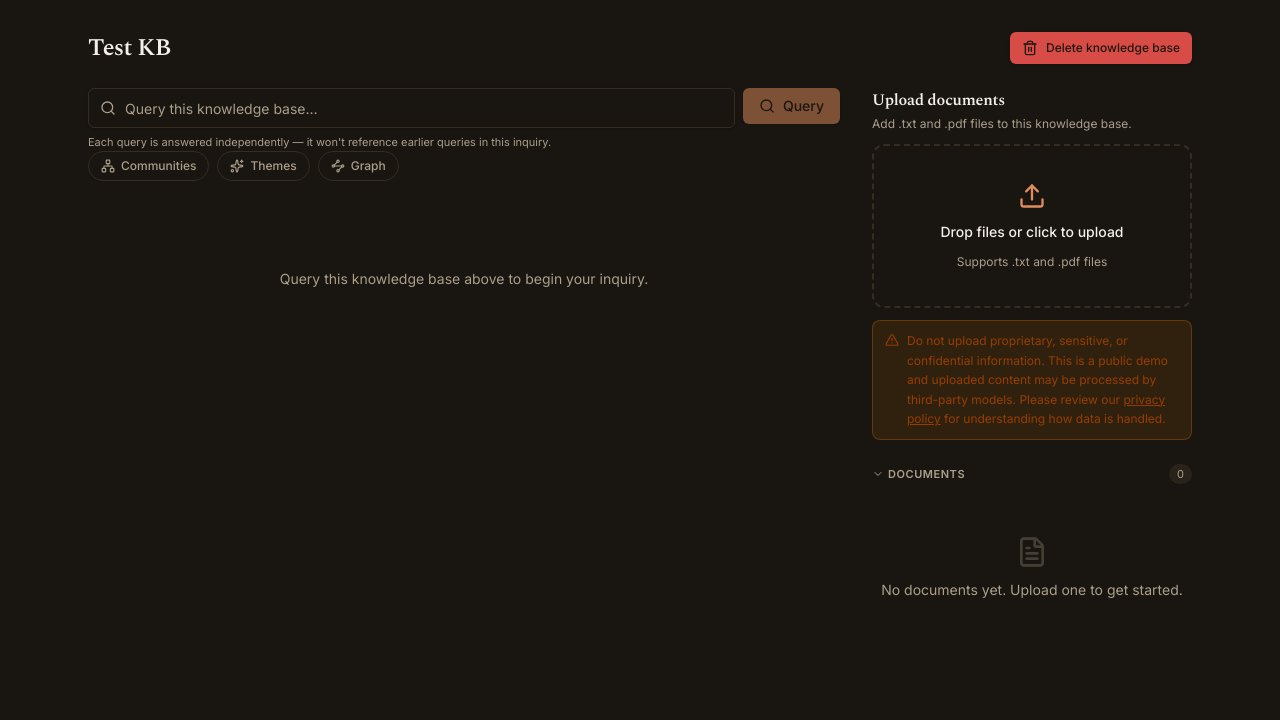
Test case: KBDetailPage › explore section › pills › opens the matching panel on click and reflects that in aria-pressed
Click the button "Communities" at {"x": 149, "y": 166}, box x1=88 y1=150 x2=210 y2=180
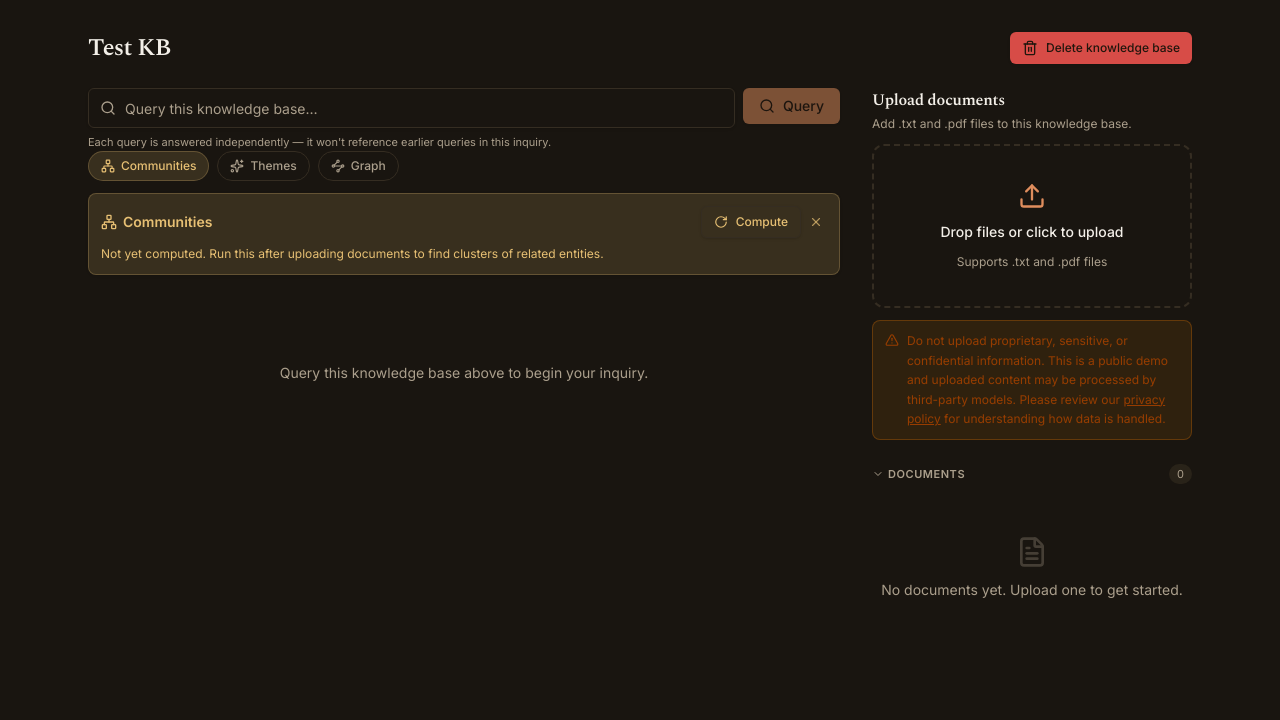
Expected: the heading "Communities" is shown, x1=101 y1=212 x2=212 y2=232
